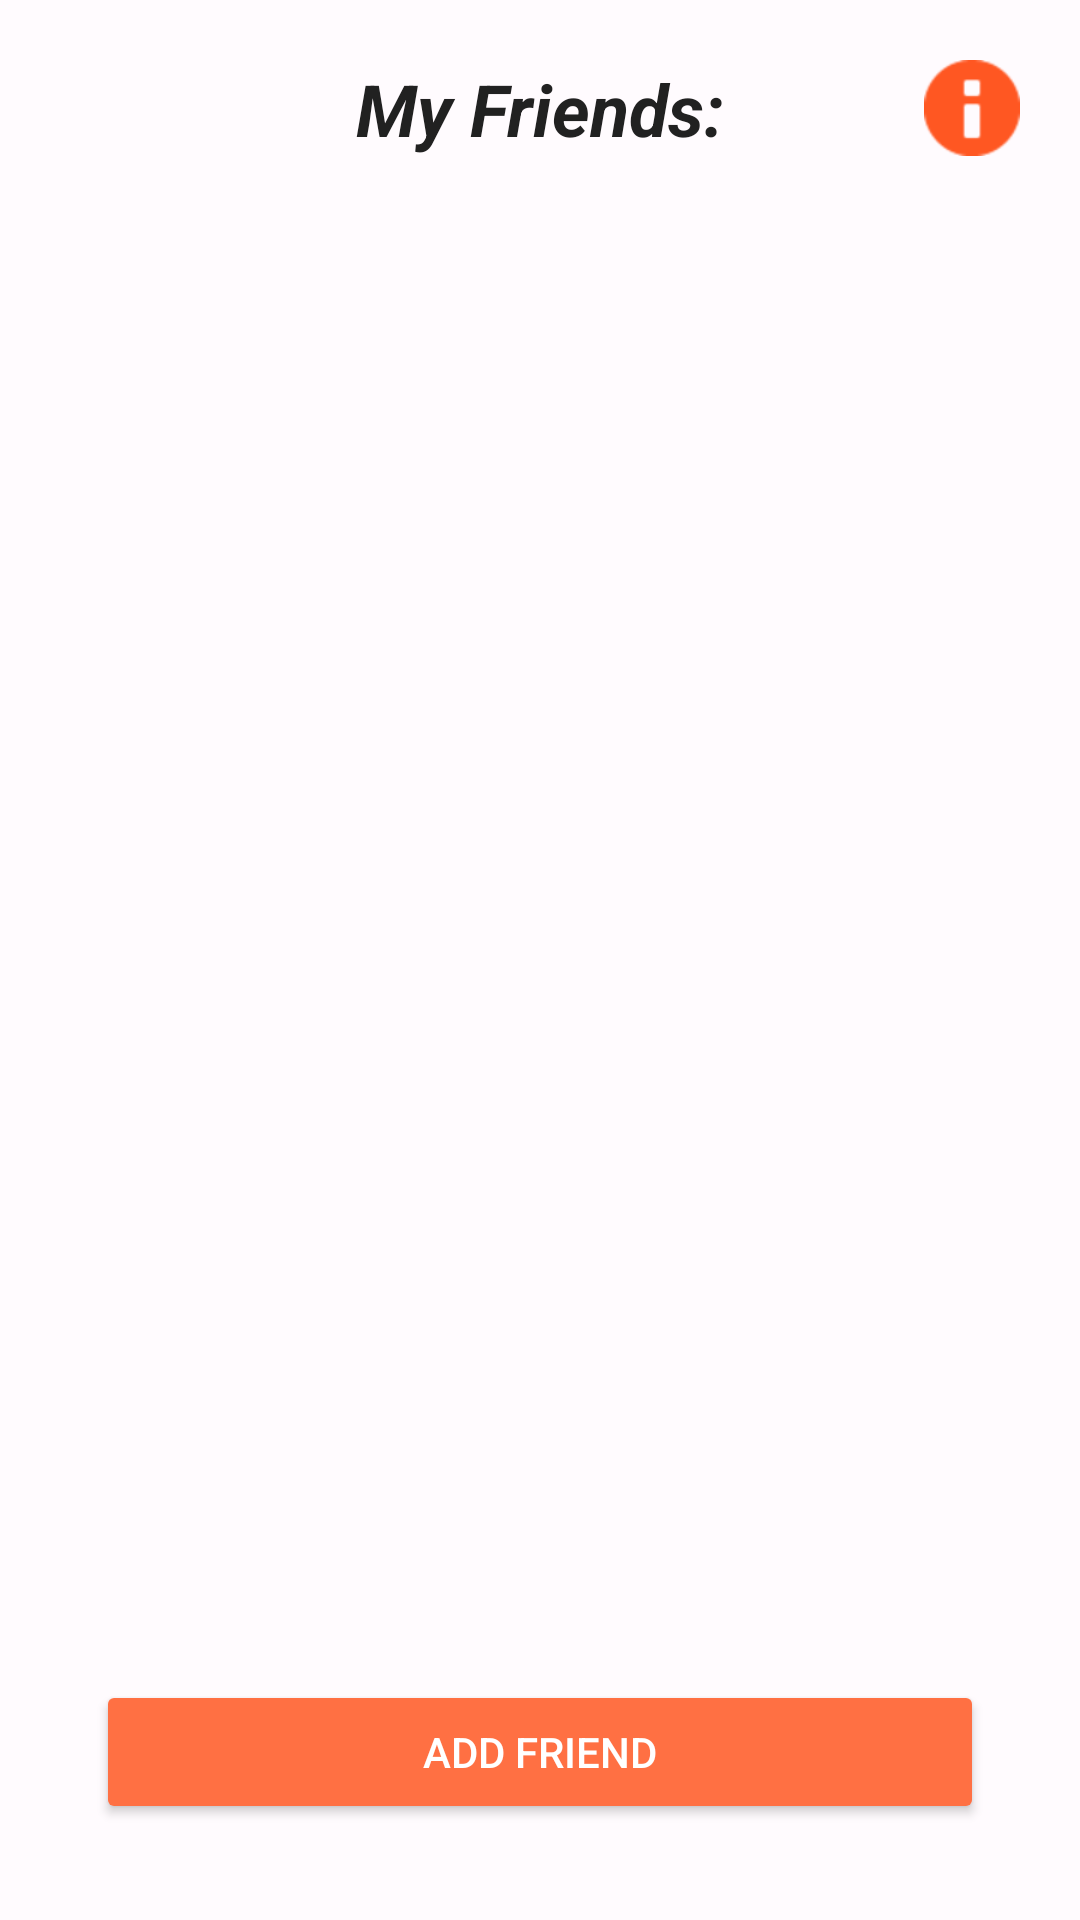

Screen size 1080 x 1920. Icon name, then its center in pixels as point (x, y):
info: point (972, 108)
